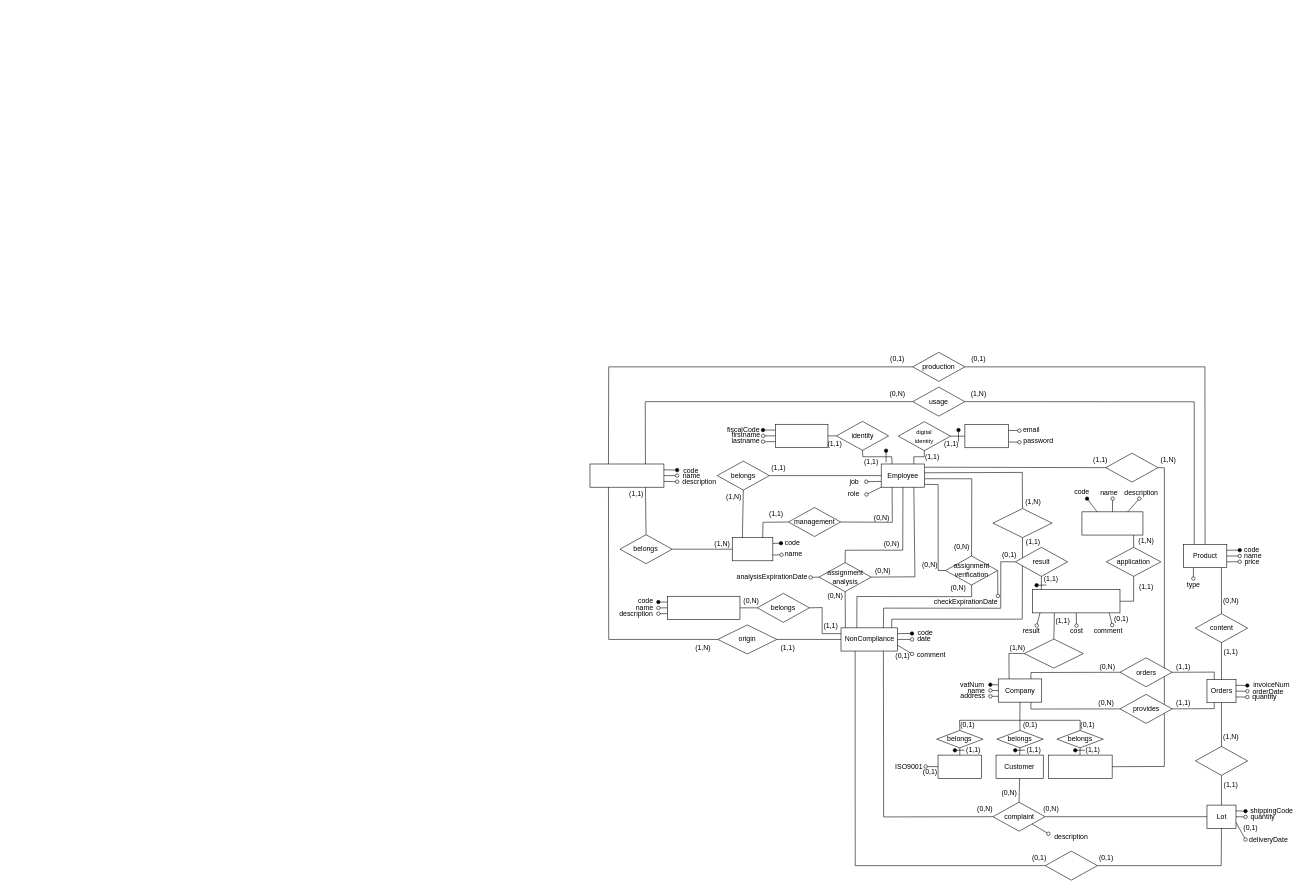
Some shapes in this 1304 by 890 pixel diagram are drawn without their labels. The centre of each missing label's shape, as x and y in pixels:
CorrectiveAction: pixel 1112 523
CurrentCompany: pixel 1080 766
Department: pixel 752 549
employment: pixel 1131 467
NonComplianceList: pixel 703 607
NonComplianceResult: pixel 1076 601
PersonalData: pixel 801 435
Process: pixel 626 475
report: pixel 1022 523
responsibility: pixel 1053 653
shipping: pixel 1221 760
Supplier: pixel 959 766
supply: pixel 1071 865
User: pixel 986 436
